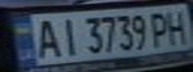3: (81, 14, 103, 54), (115, 11, 136, 52)
7: (100, 12, 118, 52)
9: (130, 11, 151, 50)
A: (30, 16, 63, 60)
H: (163, 7, 193, 45)
I: (54, 15, 81, 56)
P: (148, 9, 172, 47)
